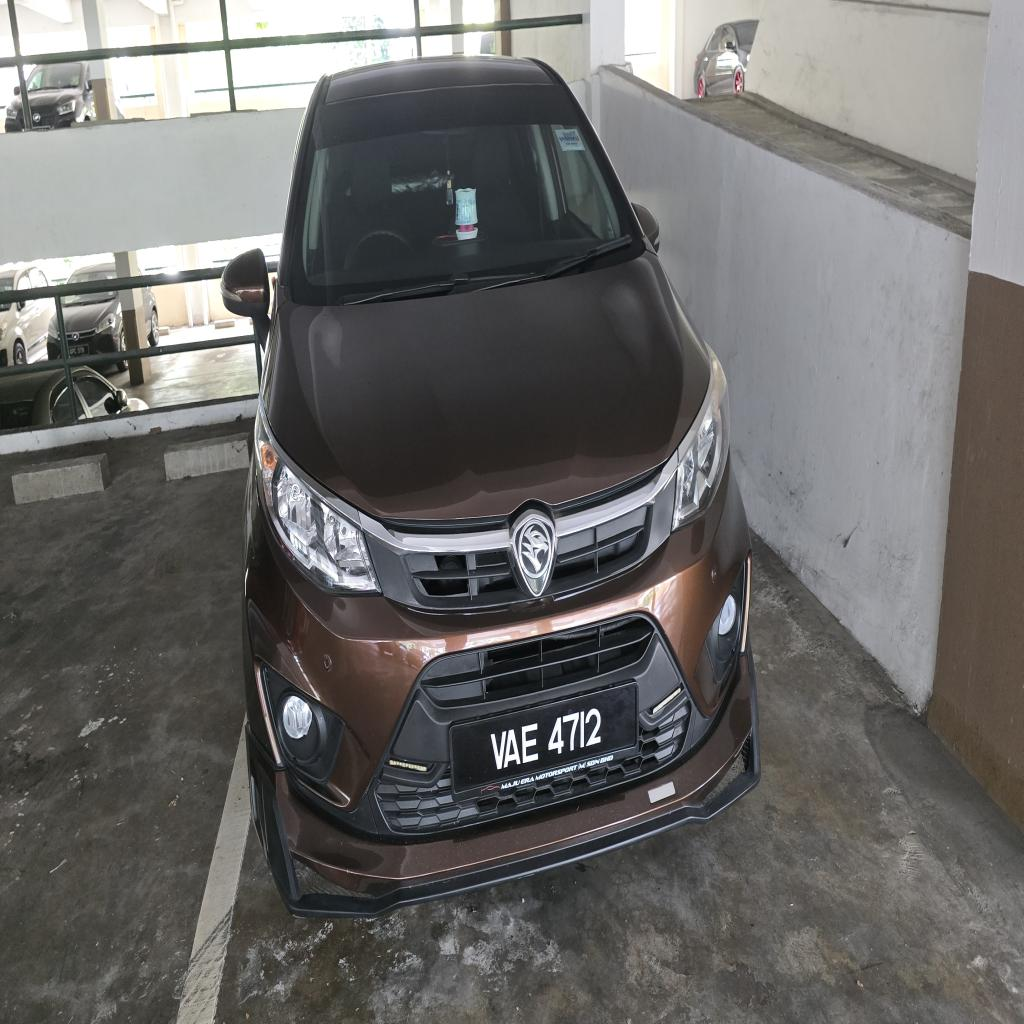car: (222, 58, 759, 916)
car plate: (451, 683, 637, 791)
